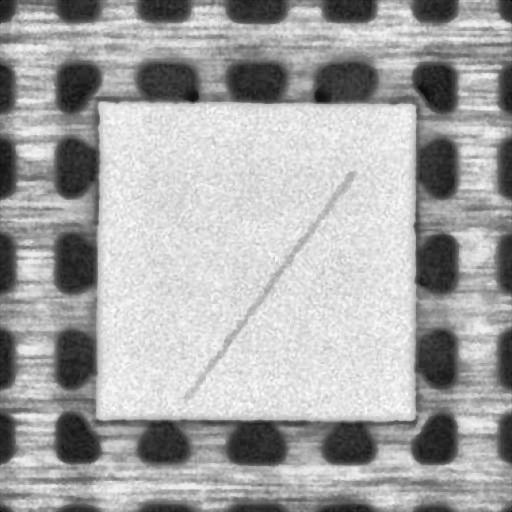DIE_CRACK: (185, 171, 353, 398)
